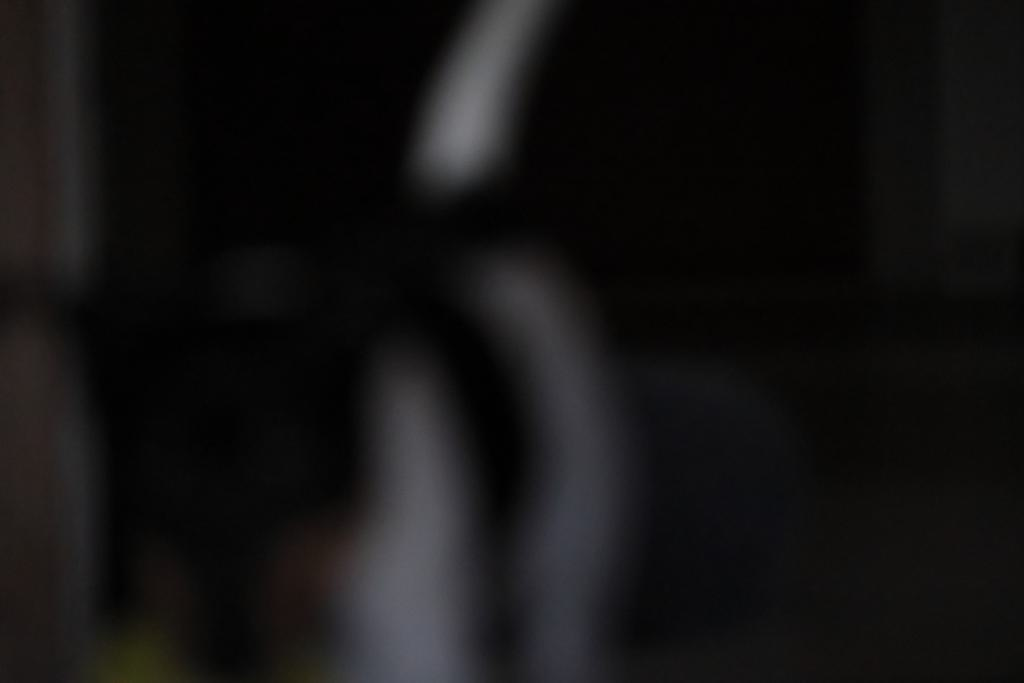Dog: (12, 0, 651, 683)
